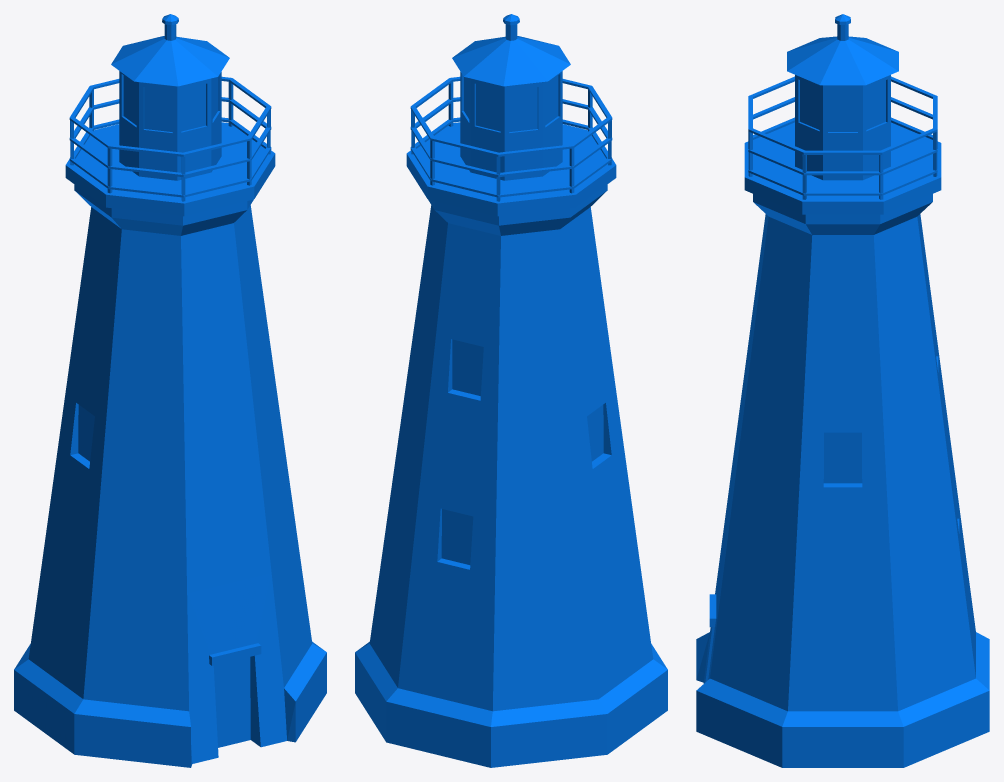
File: lighthouse.fbx
3 views of the same model, side by side, from view 1: azimuth 30°, elevation 25°; view 2: azimuth 150°, elevation 25°; view 3: azimuth 270°, elevation 25° (orthographic).
Visible parts, largest first — view 1: Unity; view 2: Unity; view 3: Unity.
Boxes of the visible parts, box(x1,y1,x2,y2) form: Unity: box(14, 14, 326, 767); Unity: box(355, 14, 667, 767); Unity: box(696, 14, 989, 767).
Bounding box in the file's own units: 617 × 1605 × 617.
